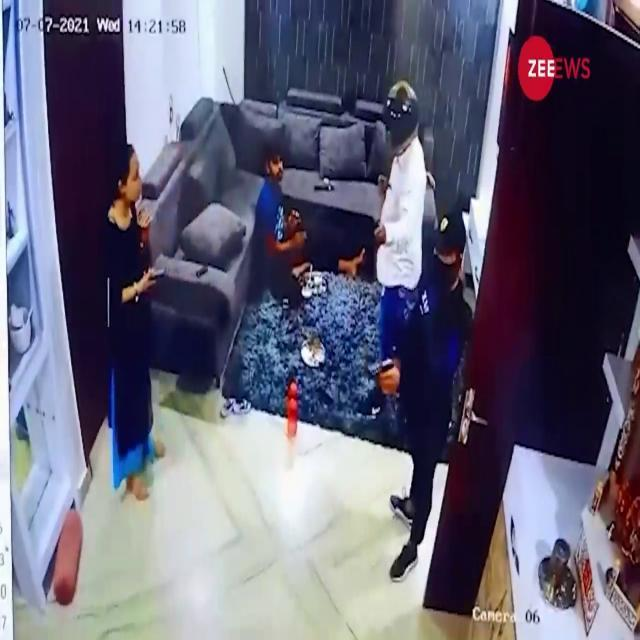weapon: (368, 353, 396, 385)
